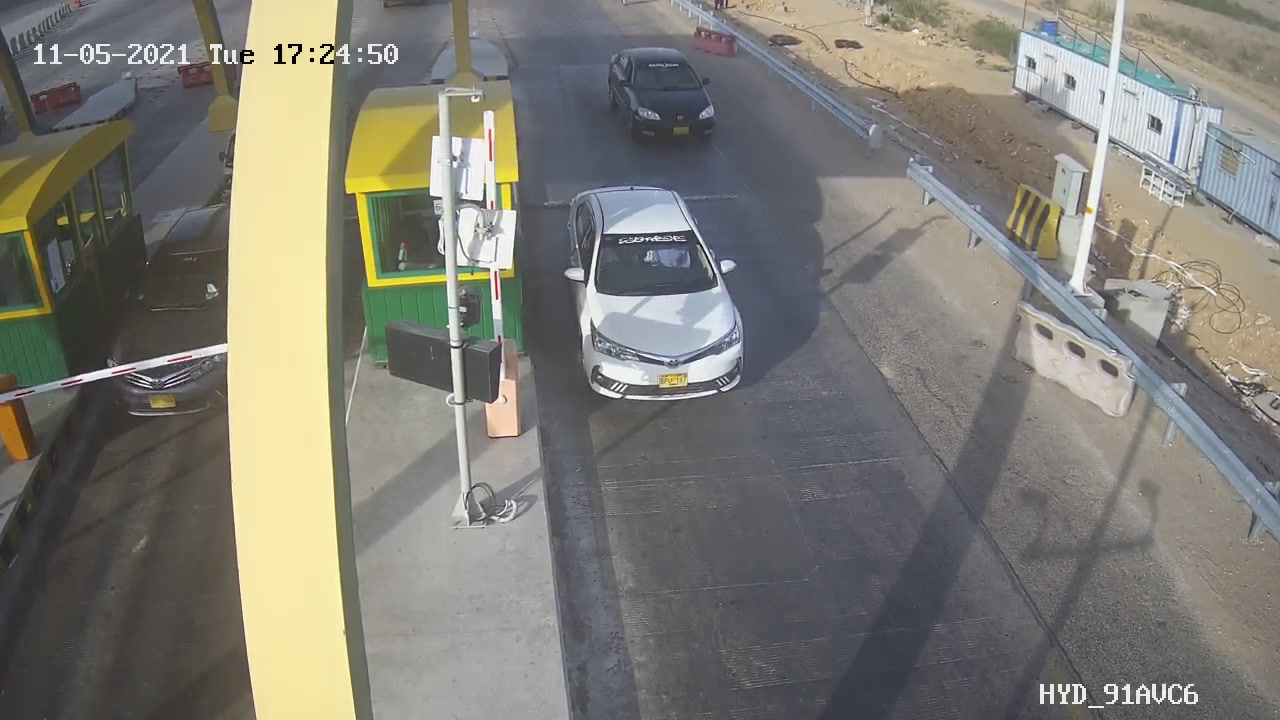F1: (547, 168, 764, 429), (594, 35, 735, 160)
